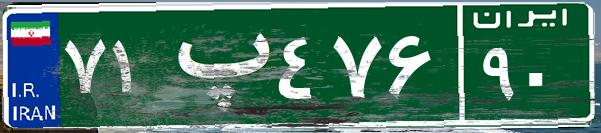0: (525, 38, 570, 115)
1: (110, 28, 158, 105)
4: (273, 28, 330, 110)
6: (385, 28, 445, 110)
7: (330, 28, 385, 110), (57, 26, 110, 107)
9: (475, 38, 525, 113)
پ: (158, 15, 273, 115)
